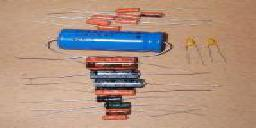Electrolytic-capacitor: (44, 29, 167, 61), (78, 57, 145, 70), (204, 39, 226, 65), (182, 37, 202, 65), (98, 112, 137, 123)
